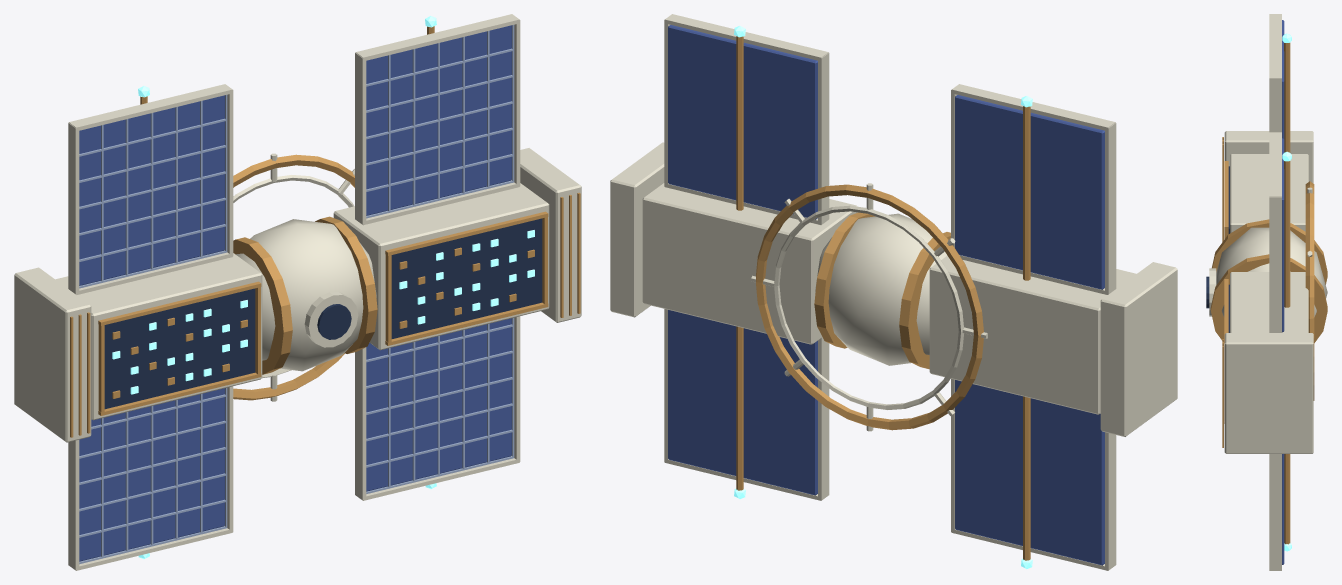
Rendered from orbital_data_station_v2.glb.
The picture shows the model from 3 angles, left to right: view 1: azimuth 30°, elevation 25°; view 2: azimuth 150°, elevation 25°; view 3: azimuth 270°, elevation 25°; orthographic projection. The views are drawn at different scales.
Parts seen in each view (by area): view 1: orbital_data_station_v2__orbit-solar-cobalt, orbital_data_station_v2__orbit-ivory, orbital_data_station_v2__orbit-server-navy, orbital_data_station_v2__orbit-solar-grid, orbital_data_station_v2__orbit-copper, orbital_data_station_v2__orbit-data-emissive; view 2: orbital_data_station_v2__orbit-solar-cobalt, orbital_data_station_v2__orbit-ivory, orbital_data_station_v2__orbit-copper; view 3: orbital_data_station_v2__orbit-ivory, orbital_data_station_v2__orbit-copper, orbital_data_station_v2__orbit-solar-cobalt, orbital_data_station_v2__orbit-server-navy, orbital_data_station_v2__orbit-data-emissive.
Boxes of the visible parts, left/top/right/bottom form: orbital_data_station_v2__orbit-solar-cobalt: left=79, top=25, right=511, bottom=561; orbital_data_station_v2__orbit-ivory: left=14, top=14, right=581, bottom=570; orbital_data_station_v2__orbit-server-navy: left=104, top=218, right=542, bottom=409; orbital_data_station_v2__orbit-solar-grid: left=79, top=25, right=514, bottom=564; orbital_data_station_v2__orbit-copper: left=70, top=26, right=580, bottom=437; orbital_data_station_v2__orbit-data-emissive: left=112, top=16, right=534, bottom=558; orbital_data_station_v2__orbit-solar-cobalt: left=668, top=25, right=1104, bottom=565; orbital_data_station_v2__orbit-ivory: left=610, top=14, right=1177, bottom=570; orbital_data_station_v2__orbit-copper: left=736, top=36, right=1030, bottom=560; orbital_data_station_v2__orbit-ivory: left=1209, top=14, right=1327, bottom=570; orbital_data_station_v2__orbit-copper: left=1210, top=43, right=1327, bottom=544; orbital_data_station_v2__orbit-solar-cobalt: left=1282, top=20, right=1284, bottom=564; orbital_data_station_v2__orbit-server-navy: left=1206, top=166, right=1229, bottom=332; orbital_data_station_v2__orbit-data-emissive: left=1282, top=33, right=1291, bottom=551.
Size of the model in its own units: 75.72 by 66.35 by 18.29.
